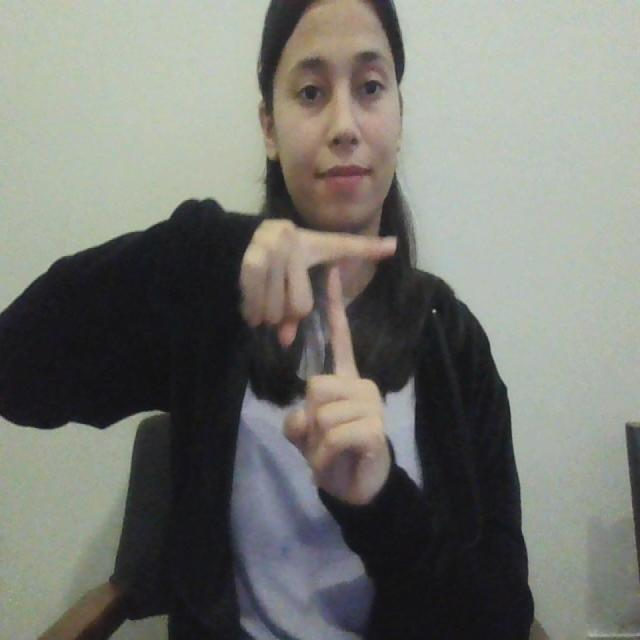Tesekkurler: (286, 212, 404, 406)
